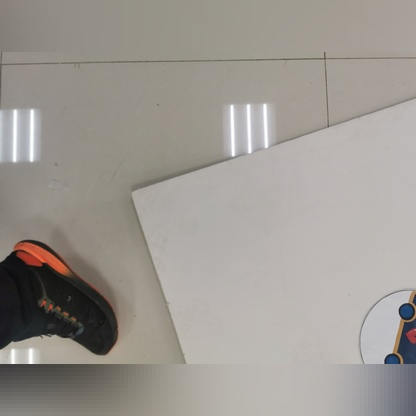car: (360, 293, 416, 383)
